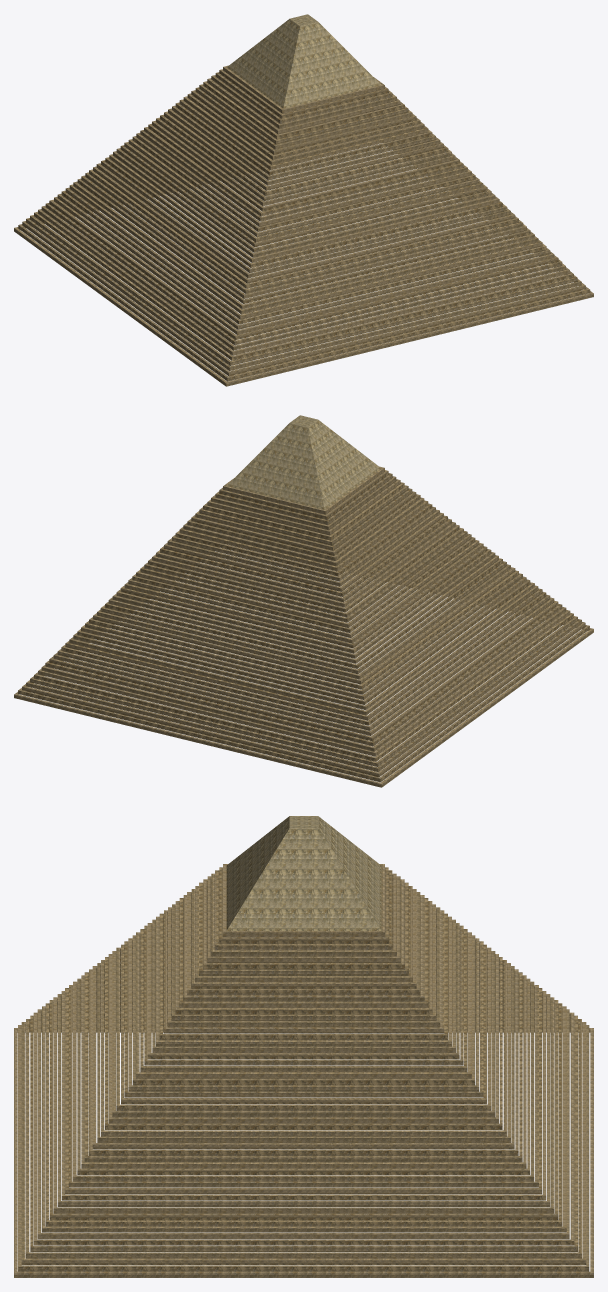
File: khafre_pyramid.gltf
The picture shows the model from 3 angles, top to bottom: view 1: azimuth 30°, elevation 25°; view 2: azimuth 150°, elevation 25°; view 3: azimuth 270°, elevation 25°; orthographic projection. The views are drawn at different scales.
Visible parts, largest first — view 1: khafre_pyramid; view 2: khafre_pyramid; view 3: khafre_pyramid.
Part boxes in pixels (x1=…): khafre_pyramid: x1=14, y1=14, x2=593, y2=386; khafre_pyramid: x1=14, y1=415, x2=593, y2=787; khafre_pyramid: x1=14, y1=816, x2=593, y2=1277.
Bounding box in the file's own units: 215 × 136 × 215.
2 materials, 2 textured.
